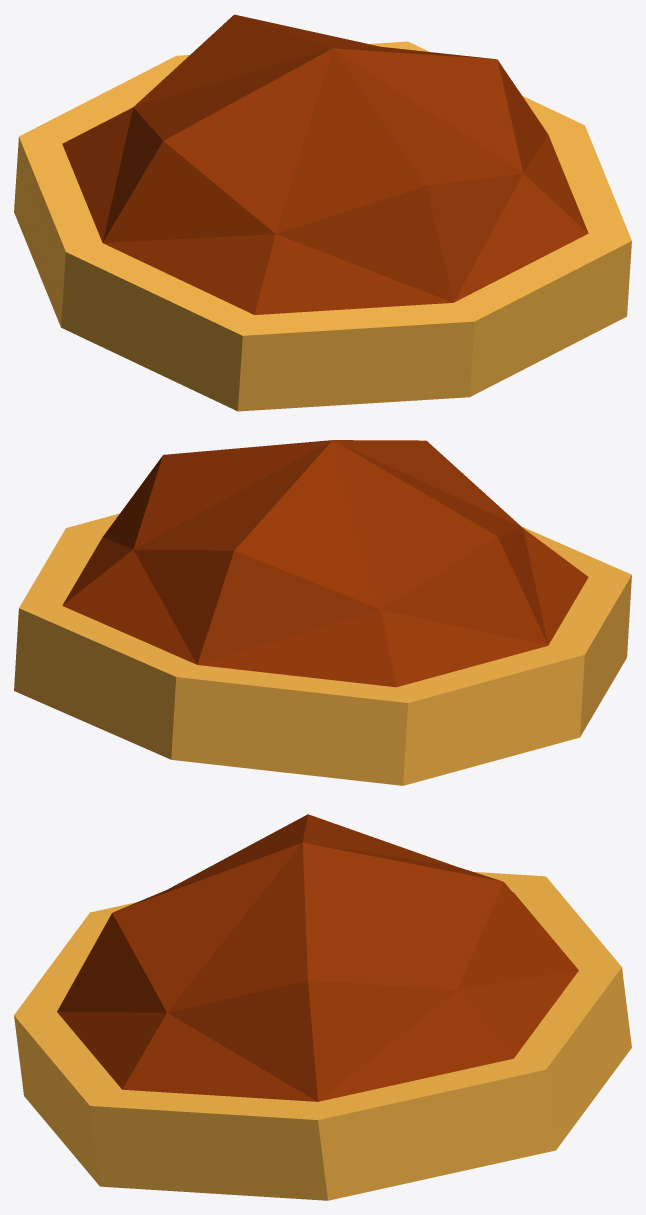
The model's file is Poleyn 06.FBX.
3 views of the same model, one above another, from view 1: azimuth 30°, elevation 25°; view 2: azimuth 150°, elevation 25°; view 3: azimuth 270°, elevation 25° (orthographic).
Parts seen in each view (by area): view 1: Poleyn 06; view 2: Poleyn 06; view 3: Poleyn 06.
Part boxes in pixels (x1,y1,x2,y2): Poleyn 06: (14, 14, 631, 411); Poleyn 06: (14, 440, 631, 785); Poleyn 06: (14, 814, 631, 1200).
Bounding box in the file's own units: 11.83 × 11.98 × 5.42.
